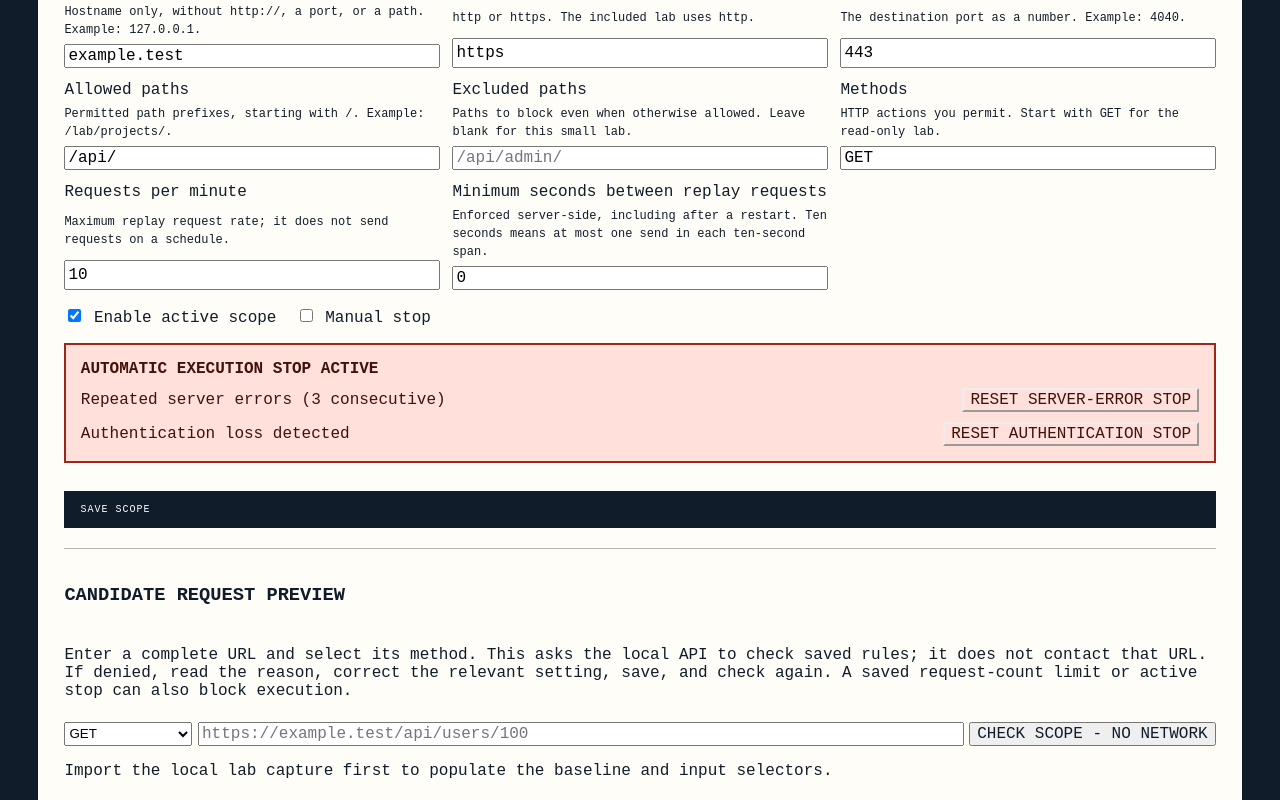
Test: investigation loop › resets latched automatic scope stops independently
(page scrolled)
Expected: the message shows "AUTOMATIC EXECUTION STOP ACTIVE", [81, 360, 378, 378]
Expected: the text "Repeated server errors (3 consecutive)" is shown, [81, 391, 446, 409]
Click the button "RESET SERVER-ERROR STOP": (1081, 400) [962, 388, 1199, 412]
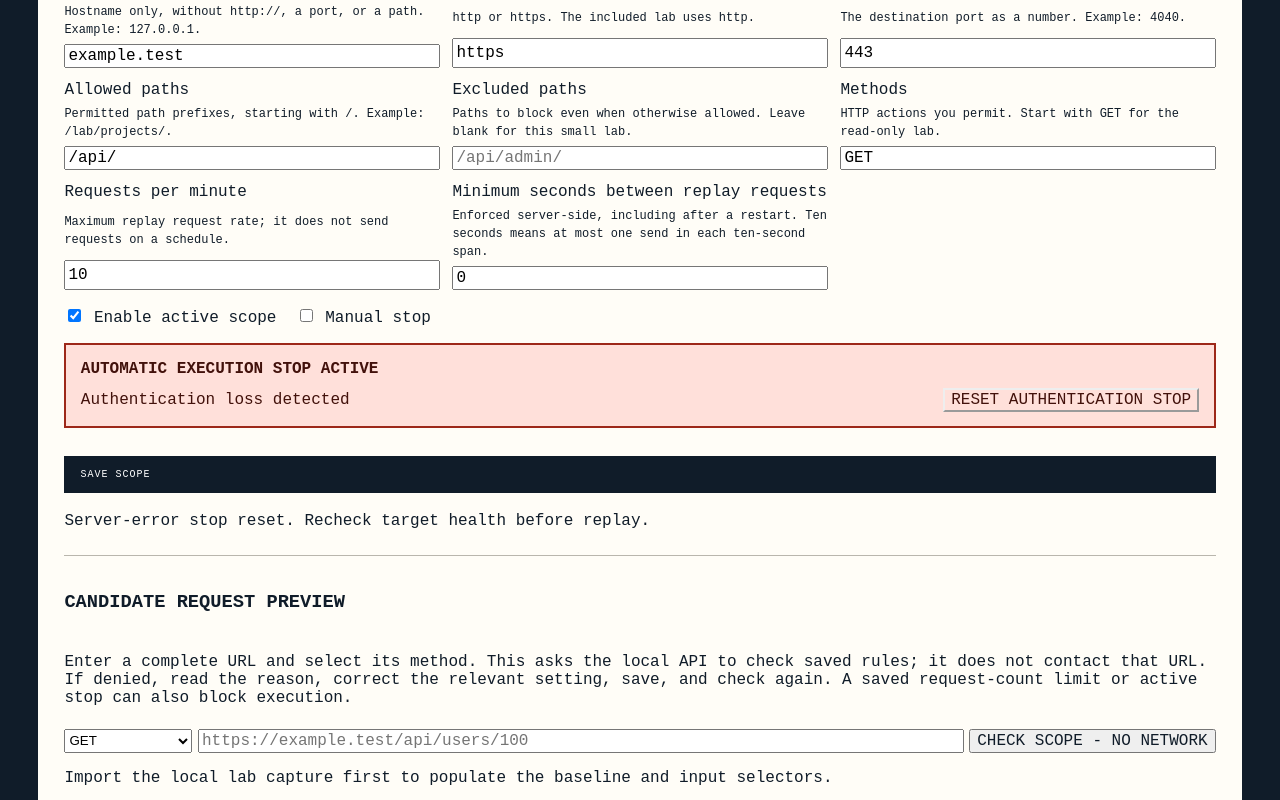
Expected: the text "Server-error stop reset. Recheck target health before replay." is shown, [64, 512, 650, 530]
Expected: the button "RESET SERVER-ERROR STOP" is gone
Click the button "RESET AUTHENTICATION STOP": (1071, 400) [943, 388, 1199, 412]
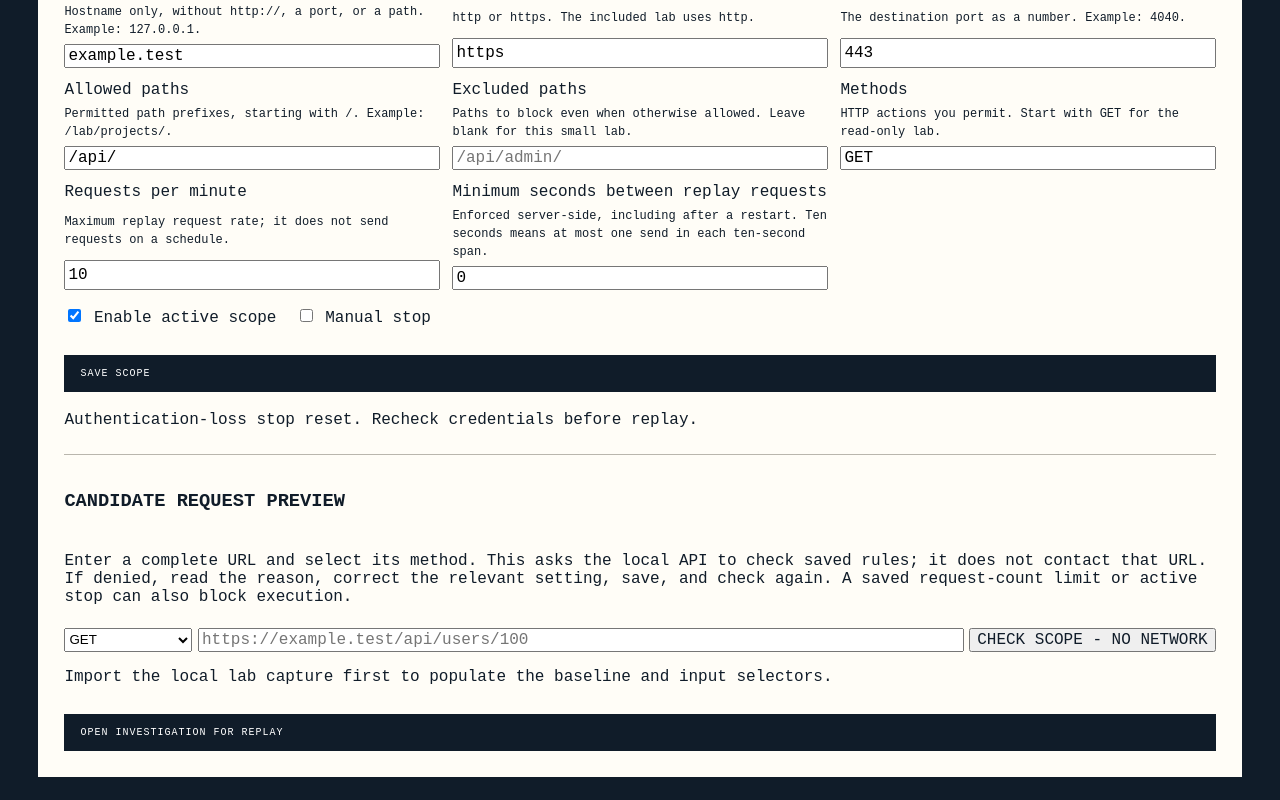
Expected: the text "Authentication-loss stop reset. Recheck credentials before replay." is shown, [64, 411, 698, 429]
